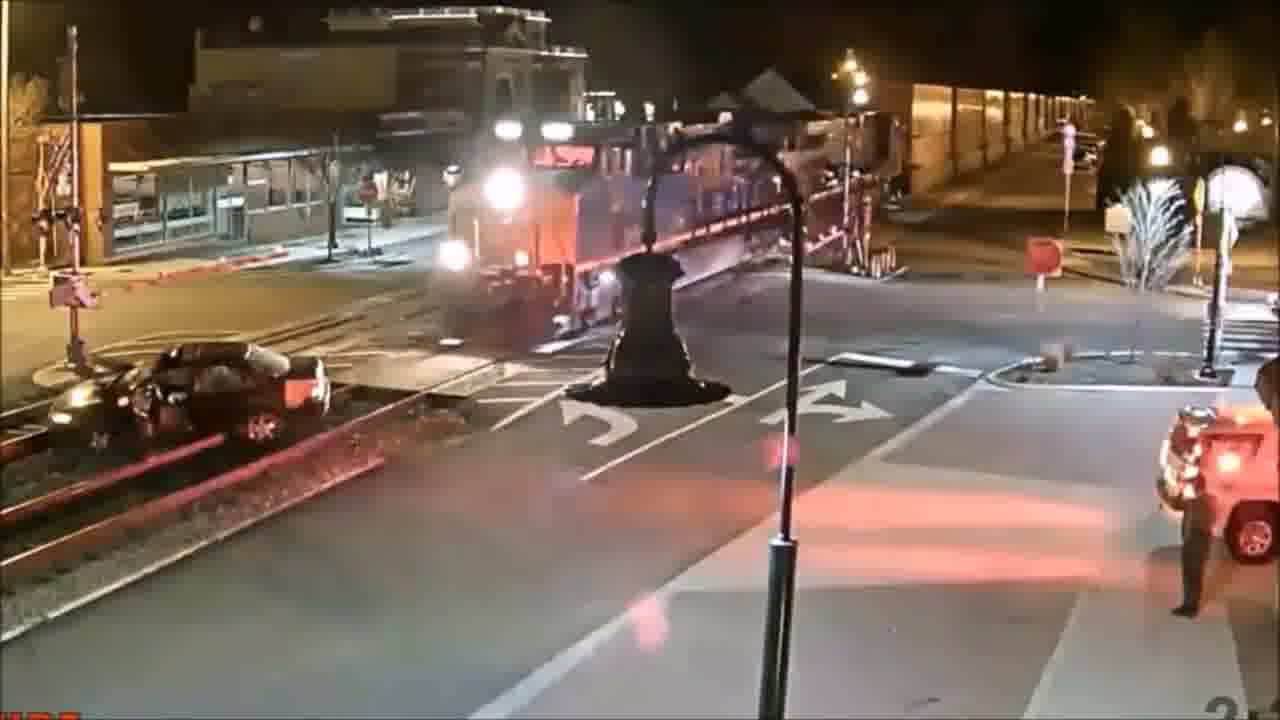crossing railway track: (34, 321, 353, 460)
